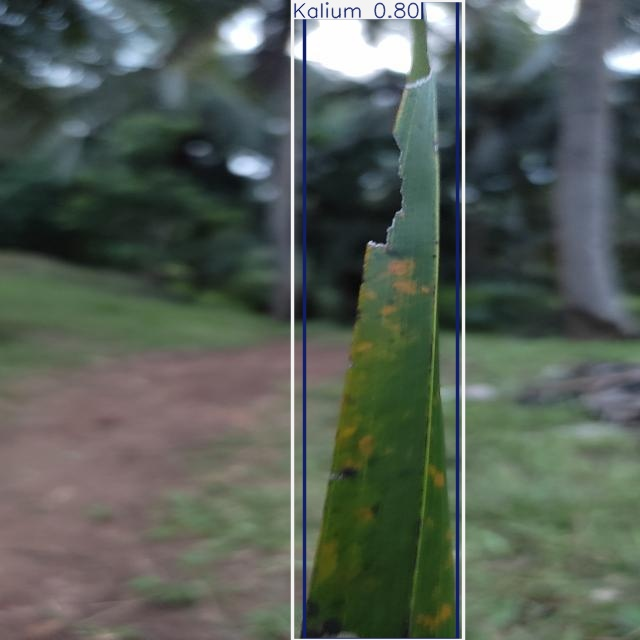Kalium: (292, 0, 463, 640)
nitrogen: (304, 0, 457, 640)
